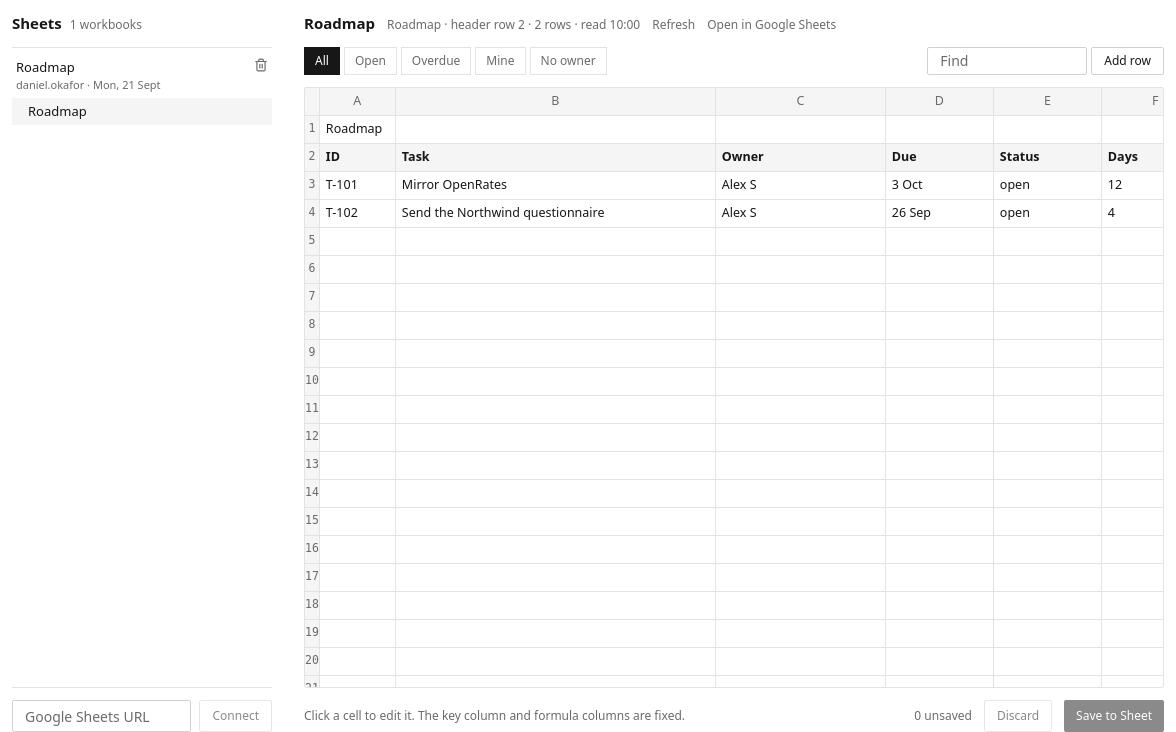
Test: Sheets: cells that cannot be edited say why › stays quiet on an editable cell
Step 1. Click the cell "Alex S" in the row of "T-101" → click(801, 186), box [716, 172, 886, 200]
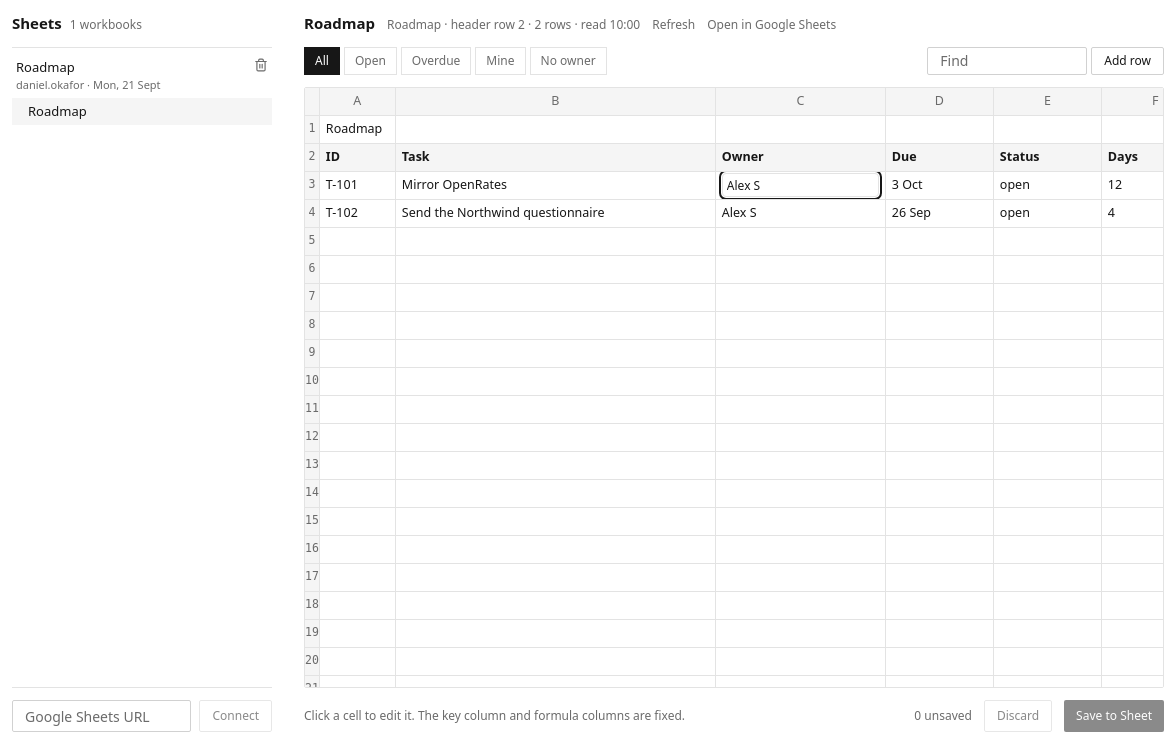
Check: the 2nd field is shown, box [722, 173, 879, 197]
